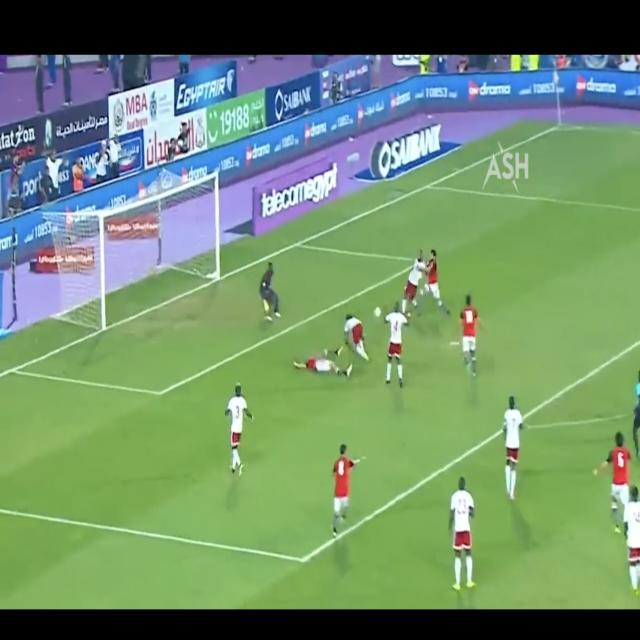right-top: (160, 174, 217, 198)
soccer-goal: (103, 176, 218, 330)
